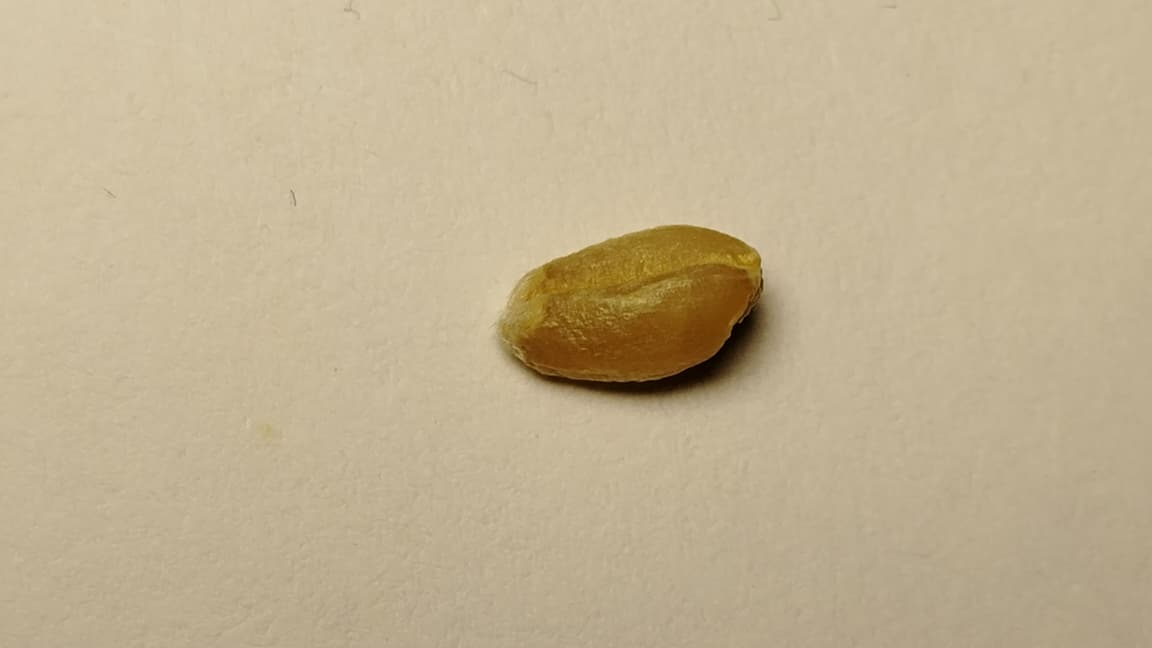healthy: (499, 226, 760, 380)
